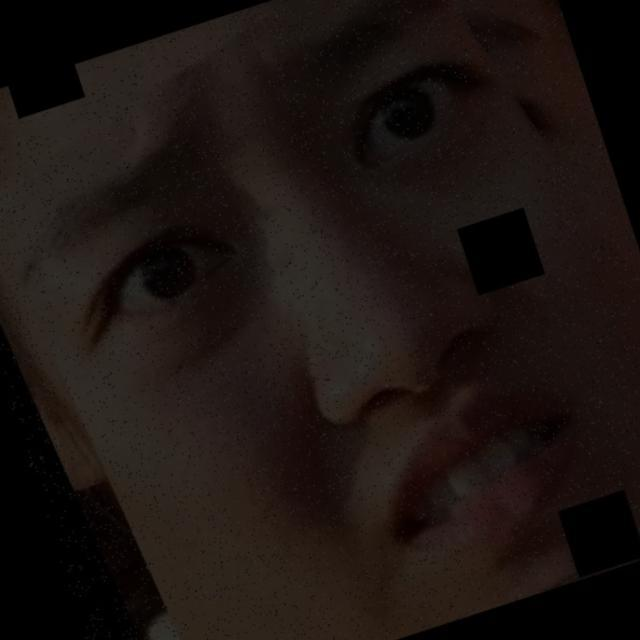Angry: (44, 38, 635, 597)
